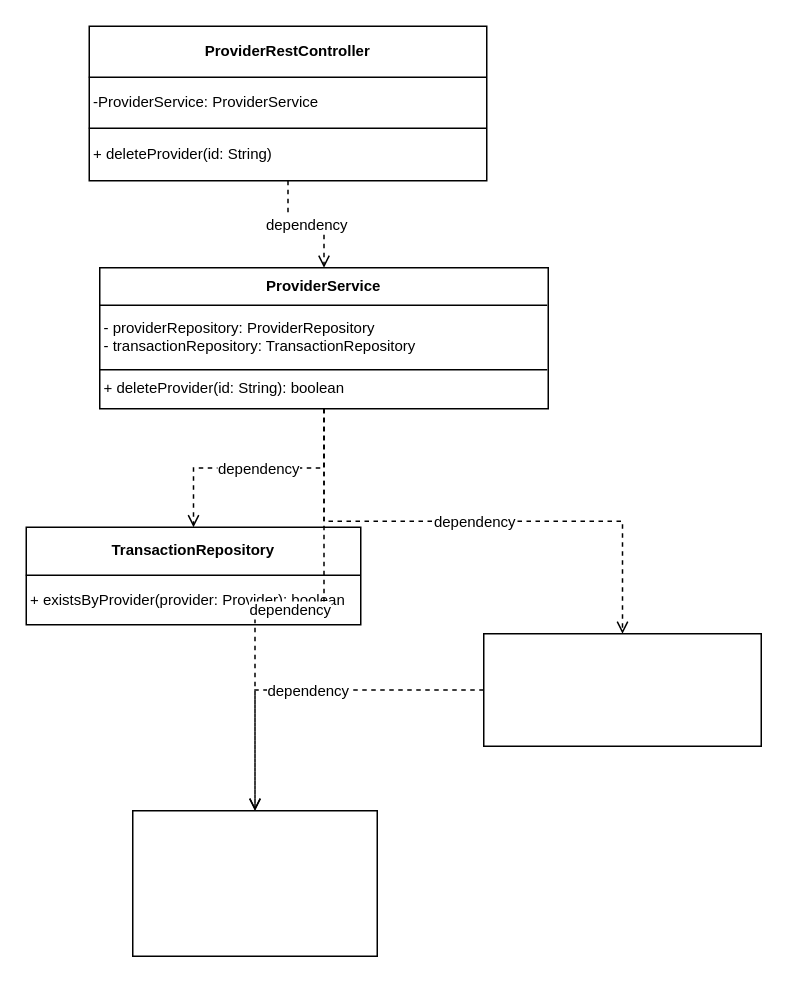
The diagram is 788 pixels wide and 983 high, and some of its shapes have lost their labels. Each missing label, with the centre of its shape:
Provider - id: String - transactions + getId(): String + setId(id: String): point 254,882
ProviderRepository + findById(id: String): Provider + delete(provider: Provider): point 621,689
